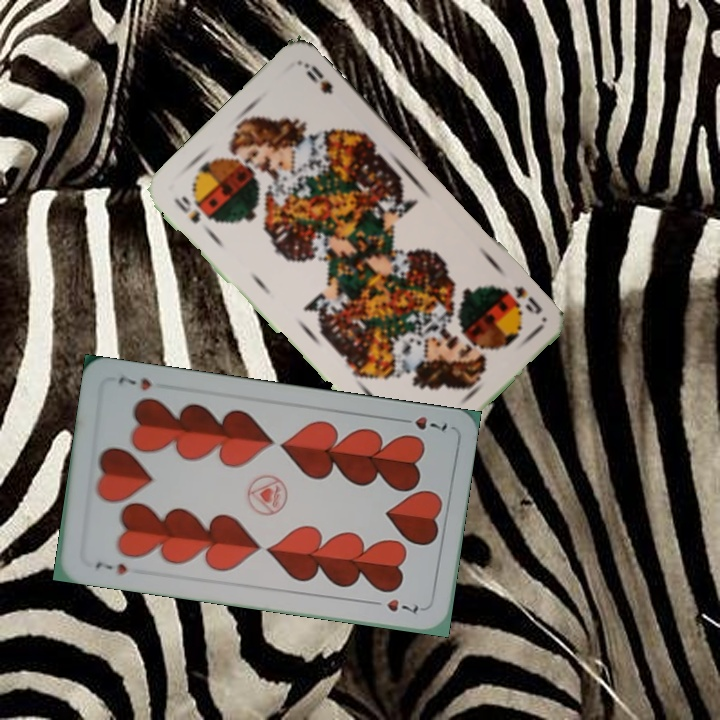H7: (393, 412, 450, 434), (91, 558, 130, 577)
SO: (169, 192, 213, 227), (509, 282, 545, 317)
